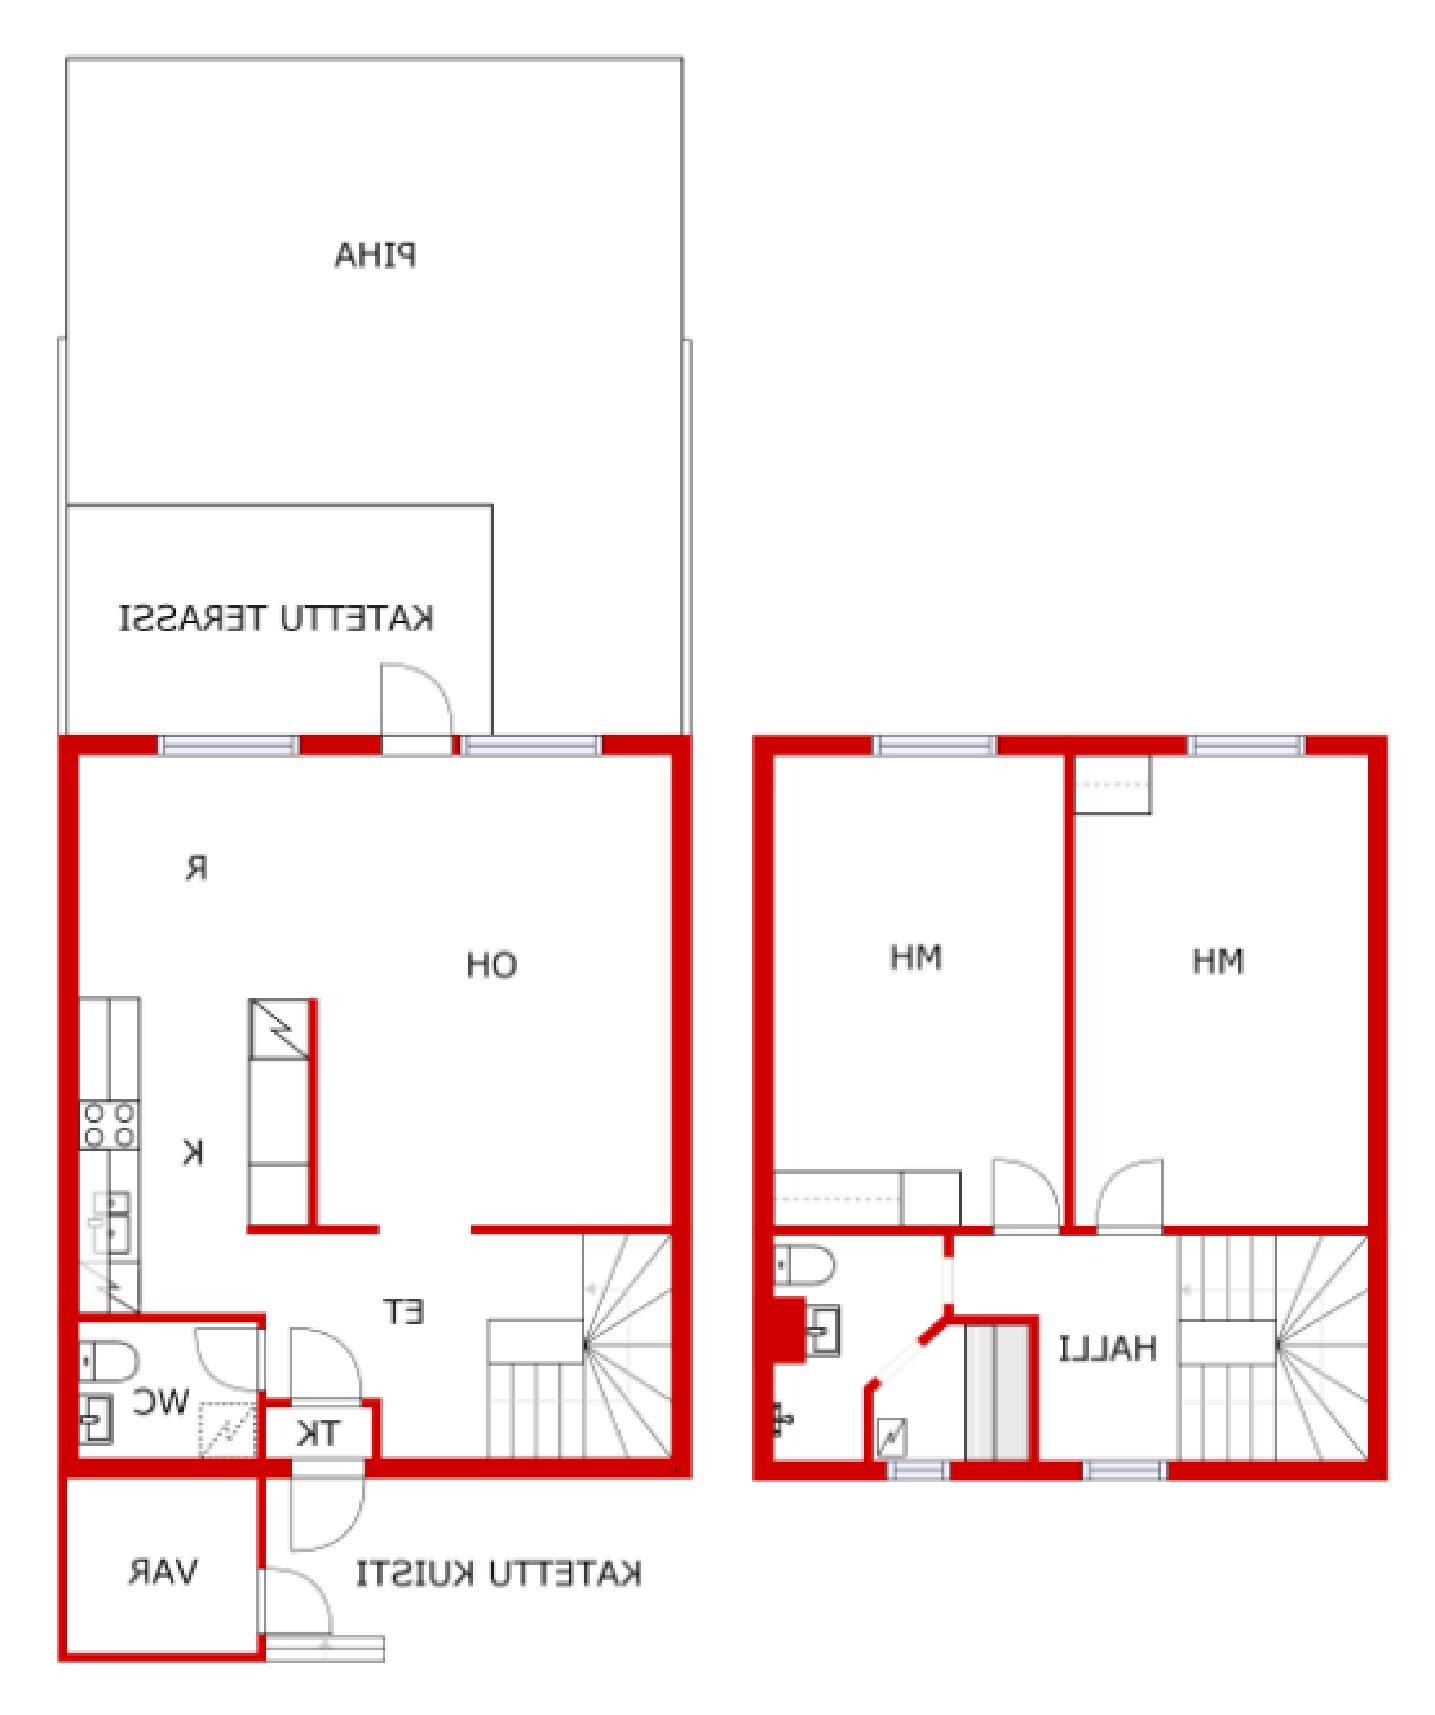door: (80, 751, 673, 1459), (76, 510, 494, 735), (63, 1477, 258, 1659), (84, 1328, 257, 1453), (286, 1310, 371, 1414), (1092, 1150, 1178, 1244), (373, 668, 460, 759), (295, 1460, 366, 1550), (184, 1322, 266, 1399), (993, 1157, 1069, 1241), (249, 1568, 336, 1628)
window: (866, 724, 996, 756), (456, 728, 604, 756), (155, 734, 306, 759), (1187, 735, 1305, 761), (1076, 1457, 1171, 1486), (882, 1461, 953, 1477)
zone: (76, 57, 673, 726), (772, 751, 1069, 1231), (1077, 742, 1362, 1226), (777, 1234, 1364, 1457)
